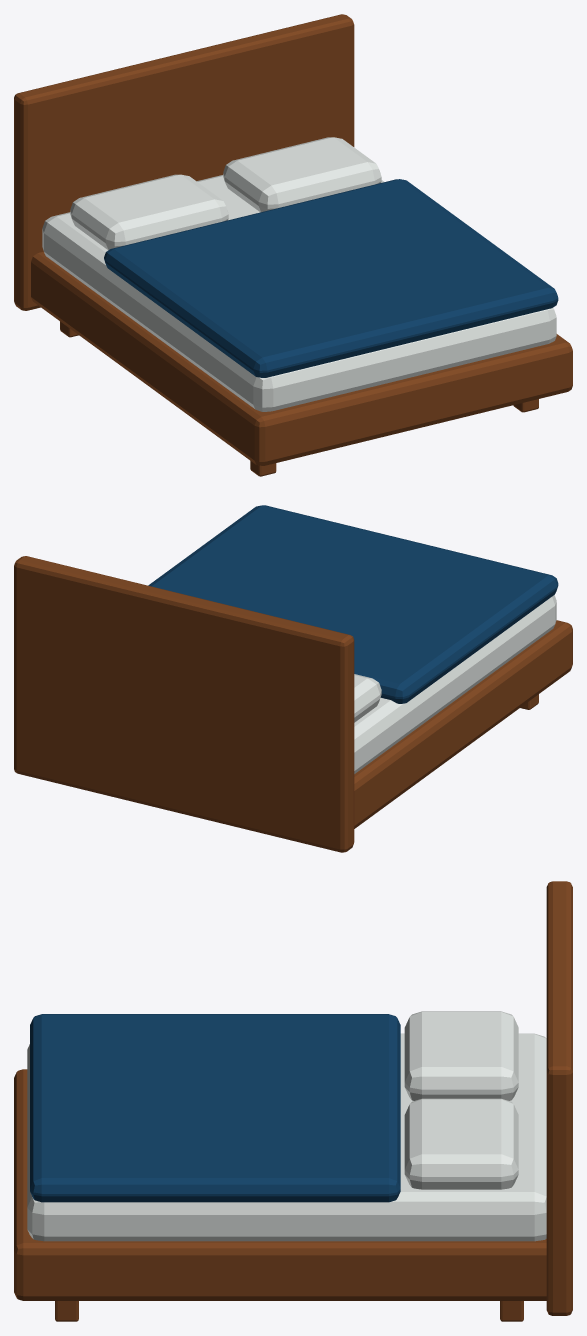
The picture shows the model from 3 angles, top to bottom: view 1: azimuth 30°, elevation 25°; view 2: azimuth 150°, elevation 25°; view 3: azimuth 270°, elevation 25°; orthographic projection. The views are drawn at different scales.
Visible parts, largest first — view 1: DUVET, HEADBOARD, FRAME, MATTRESS, PILLOW, PILLOW.001; view 2: HEADBOARD, DUVET, FRAME, MATTRESS, PILLOW; view 3: DUVET, FRAME, MATTRESS, HEADBOARD, PILLOW.001, PILLOW.
Boxes of the visible parts, x1=… form: DUVET: x1=104, y1=179, x2=558, y2=377; HEADBOARD: x1=14, y1=14, x2=354, y2=310; FRAME: x1=31, y1=251, x2=572, y2=465; MATTRESS: x1=42, y1=175, x2=556, y2=411; PILLOW: x1=70, y1=174, x2=228, y2=250; PILLOW.001: x1=223, y1=137, x2=381, y2=212; HEADBOARD: x1=14, y1=556, x2=354, y2=852; DUVET: x1=148, y1=505, x2=558, y2=703; FRAME: x1=354, y1=620, x2=572, y2=828; MATTRESS: x1=354, y1=595, x2=556, y2=773; PILLOW: x1=354, y1=674, x2=381, y2=722; DUVET: x1=30, y1=1014, x2=400, y2=1202; FRAME: x1=14, y1=1069, x2=546, y2=1300; MATTRESS: x1=27, y1=1033, x2=546, y2=1241; HEADBOARD: x1=546, y1=881, x2=572, y2=1315; PILLOW.001: x1=404, y1=1098, x2=518, y2=1189; PILLOW: x1=404, y1=1011, x2=518, y2=1100.
Bounding box in the file's own units: 1.7 × 1.12 × 2.11.
